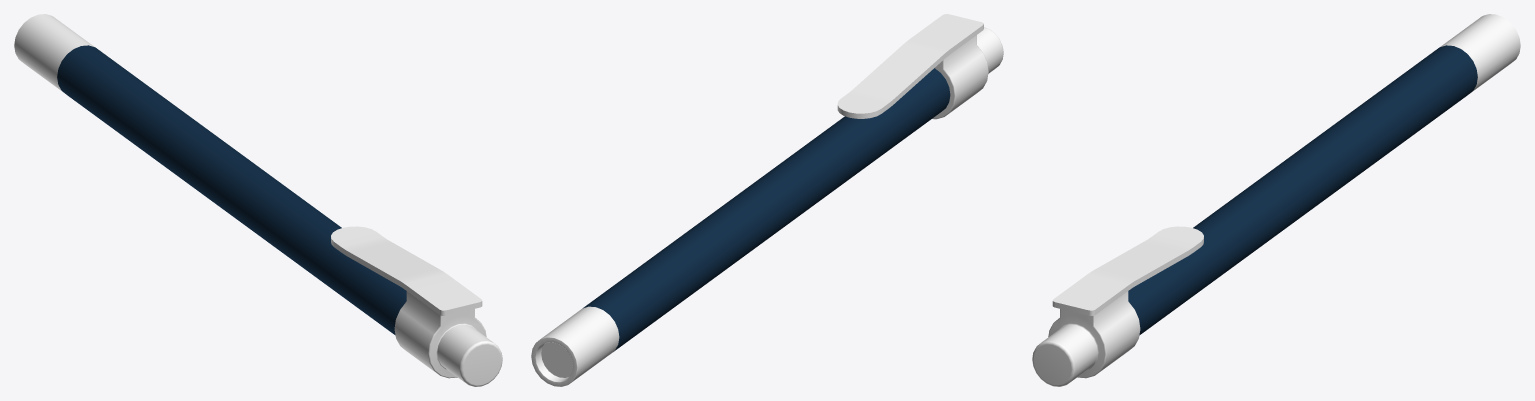
File: shouDian.fbx
3 renders of one model, left to right at view 1: azimuth 30°, elevation 25°; view 2: azimuth 150°, elevation 25°; view 3: azimuth 330°, elevation 25°, orthographic. The views are drawn at different scales.
Visible parts, largest first — view 1: shouDian; view 2: shouDian; view 3: shouDian.
Part boxes in pixels (x1=…): shouDian: x1=14, y1=14, x2=502, y2=386; shouDian: x1=531, y1=14, x2=1003, y2=386; shouDian: x1=1032, y1=14, x2=1520, y2=386.
Bounding box in the file's own units: 0.7689 × 0.9383 × 10.02.
